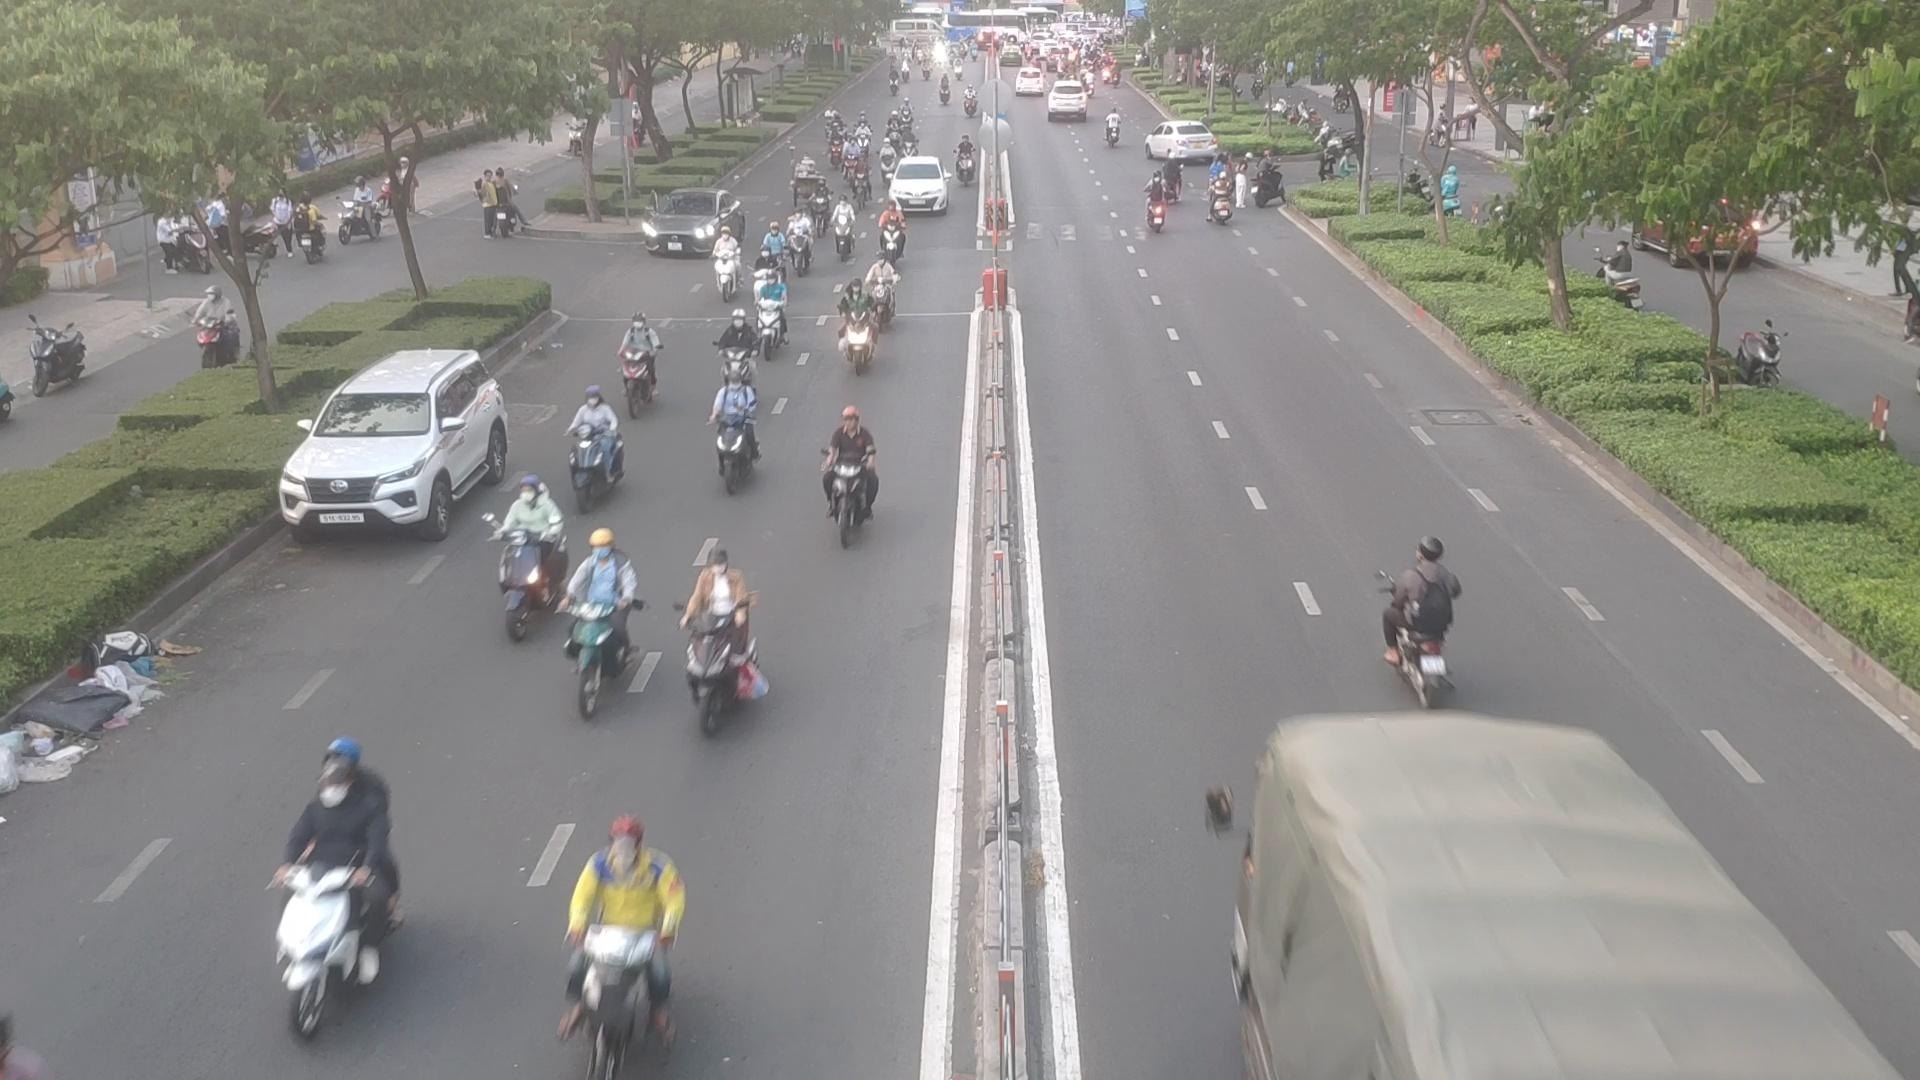car: (281, 353, 513, 545), (636, 190, 738, 257), (891, 156, 949, 211), (1149, 123, 1225, 162)
motorbike: (274, 717, 414, 1073), (566, 798, 673, 1080), (1381, 531, 1466, 715), (692, 560, 760, 735), (566, 537, 634, 699), (498, 487, 562, 641), (824, 407, 874, 553), (560, 384, 618, 504), (709, 375, 757, 483), (612, 315, 661, 417), (832, 277, 876, 372), (756, 269, 786, 359), (865, 251, 894, 323), (873, 198, 905, 262), (711, 231, 738, 295), (829, 198, 858, 257), (789, 208, 814, 270), (1211, 173, 1233, 228), (851, 154, 872, 210), (1147, 171, 1166, 235), (953, 135, 975, 186), (811, 187, 831, 237), (1160, 150, 1179, 196), (824, 127, 844, 169), (901, 127, 919, 170), (844, 135, 857, 181), (886, 109, 898, 146), (880, 138, 889, 182), (856, 127, 868, 154)
